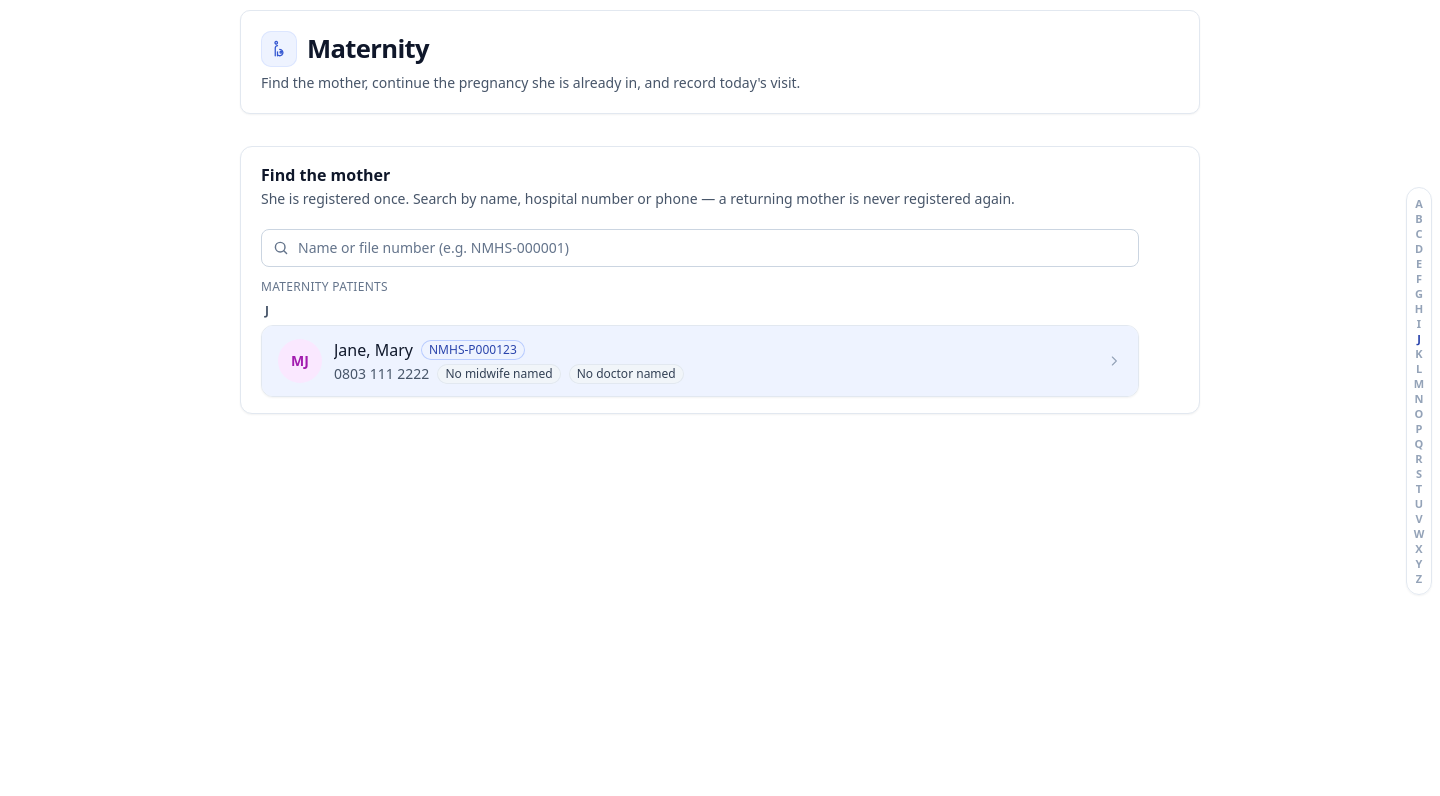
the maternity workspace › opens on Overview and says where the pregnancy stands
Click the dropdown named "Search maternity patients": coordinates (700, 248) [261,229,1139,267]
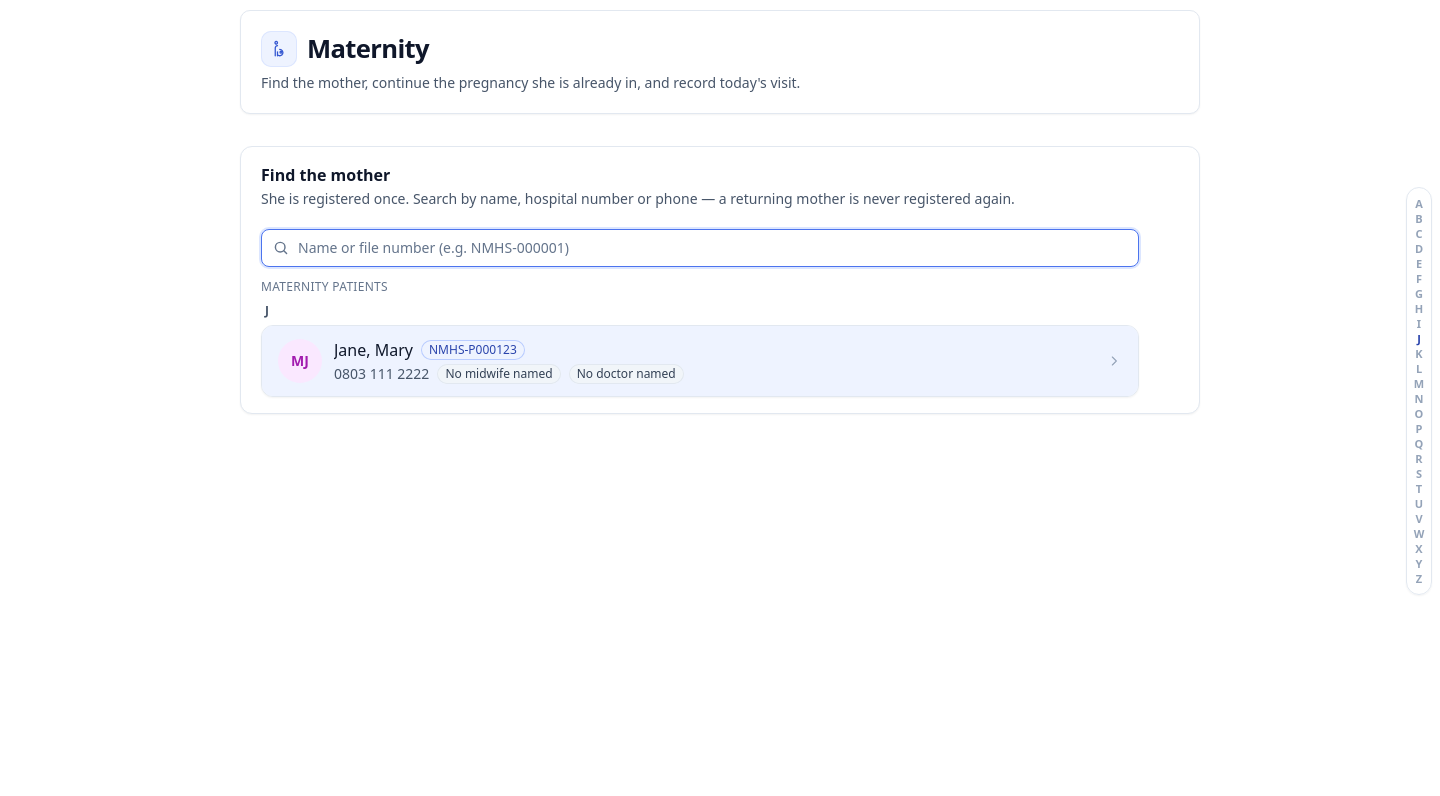
Click the option "Jane, Mary": coordinates (300, 361) [262,326,1138,396]
(page scrolled)
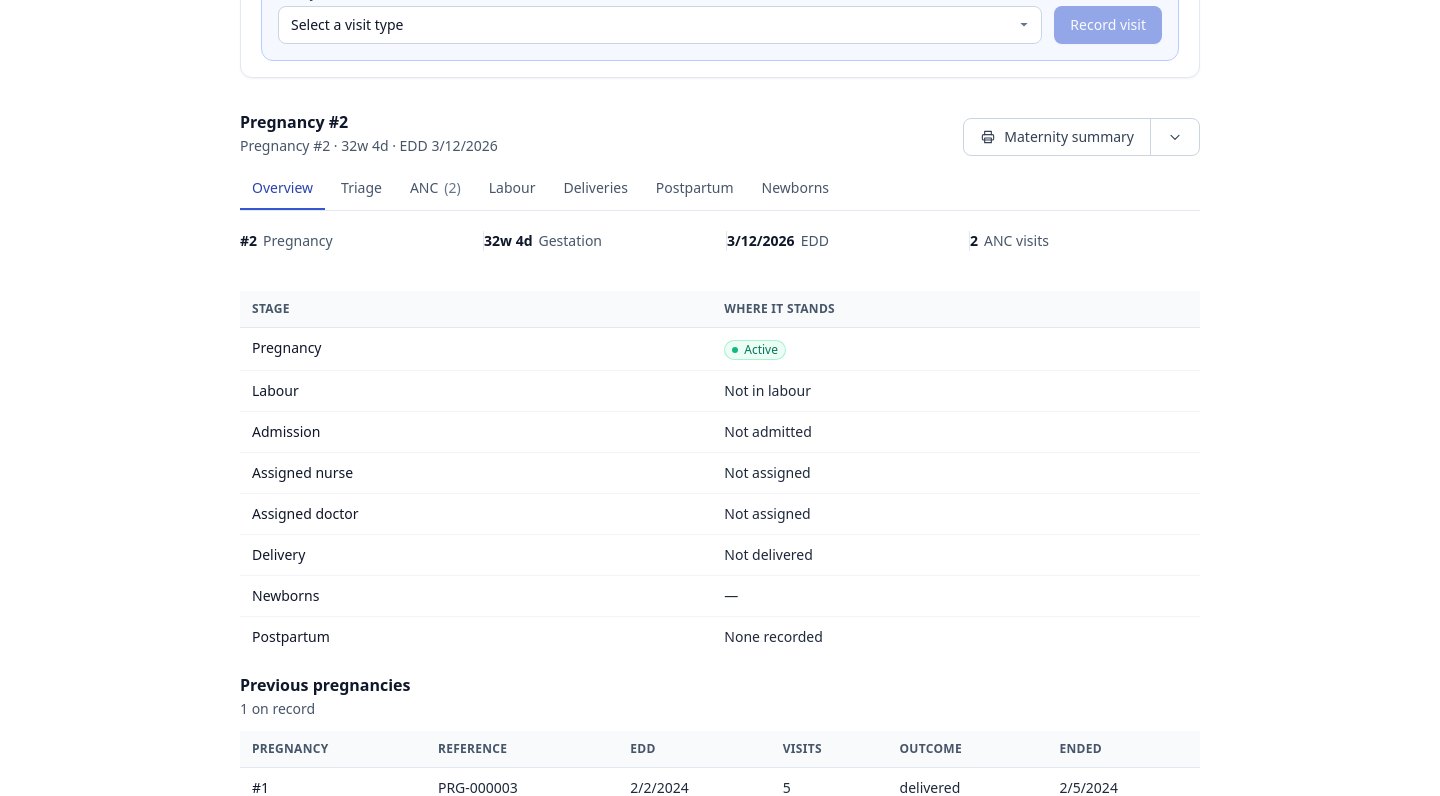
Expected: the cell "Pregnancy" is shown, [240,328,712,370]
Expected: the cell "Not in labour" is shown, [712,370,1200,412]
